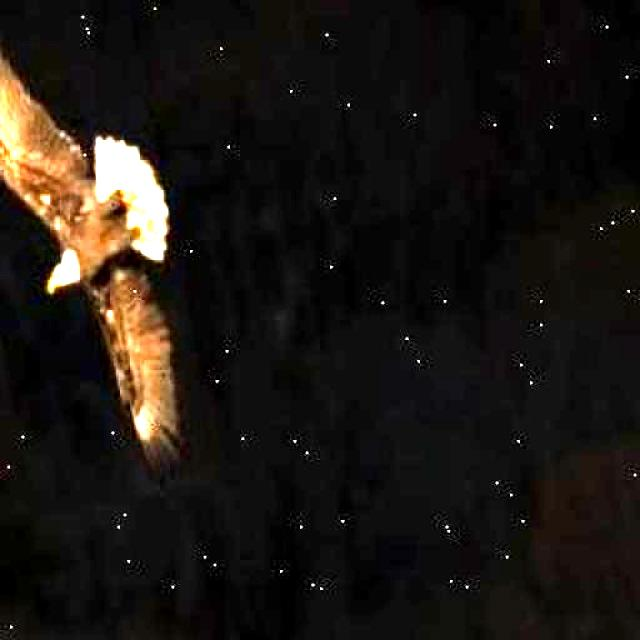airplane: (0, 0, 220, 519)
